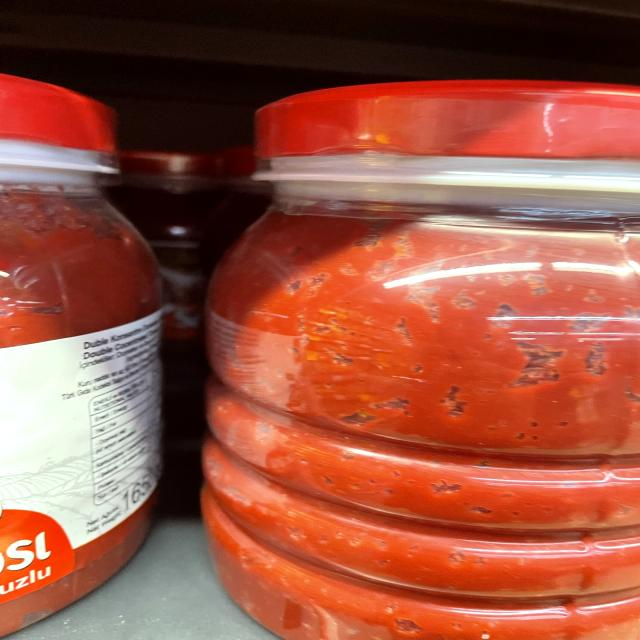tomato paste: (202, 76, 640, 640)
